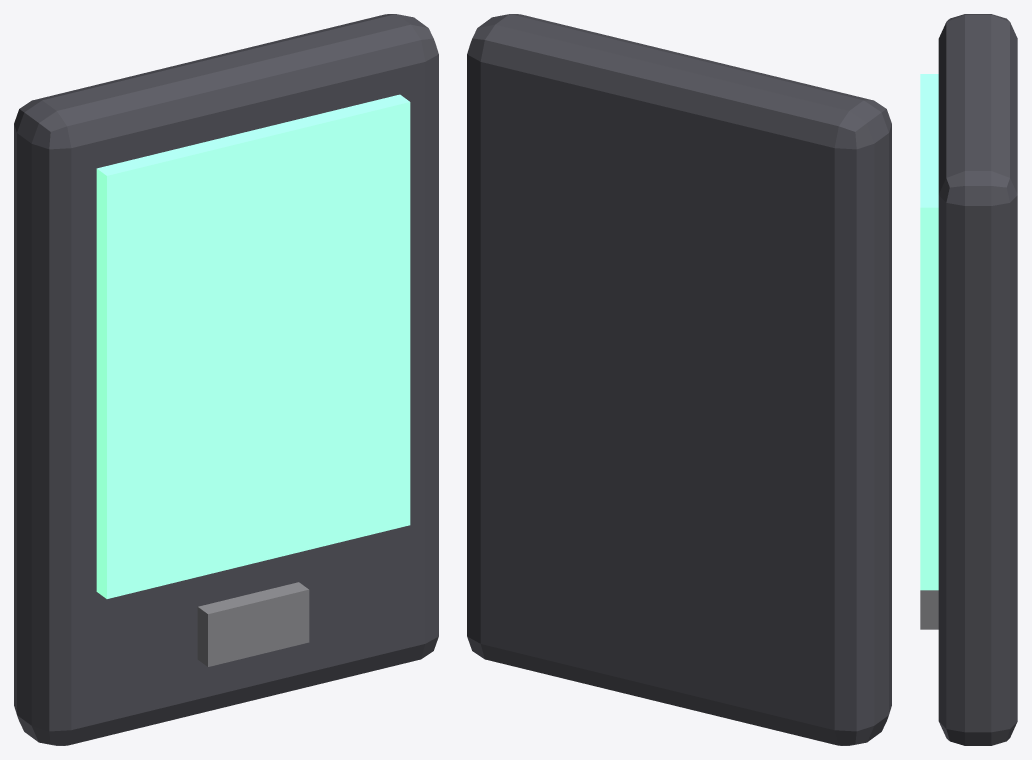
File: pickup_intel.glb
3 views of the same model, side by side, from view 1: azimuth 30°, elevation 25°; view 2: azimuth 150°, elevation 25°; view 3: azimuth 270°, elevation 25° (orthographic). The views are drawn at different scales.
Parts seen in each view (by area): view 1: pickup_intel; view 2: pickup_intel; view 3: pickup_intel.
Part boxes in pixels (x1,y1,x2,y2): pickup_intel: (14,14,438,745); pickup_intel: (467,14,891,745); pickup_intel: (920,14,1017,745).
Size of the model in its own units: 0.16 by 0.24 by 0.037.
